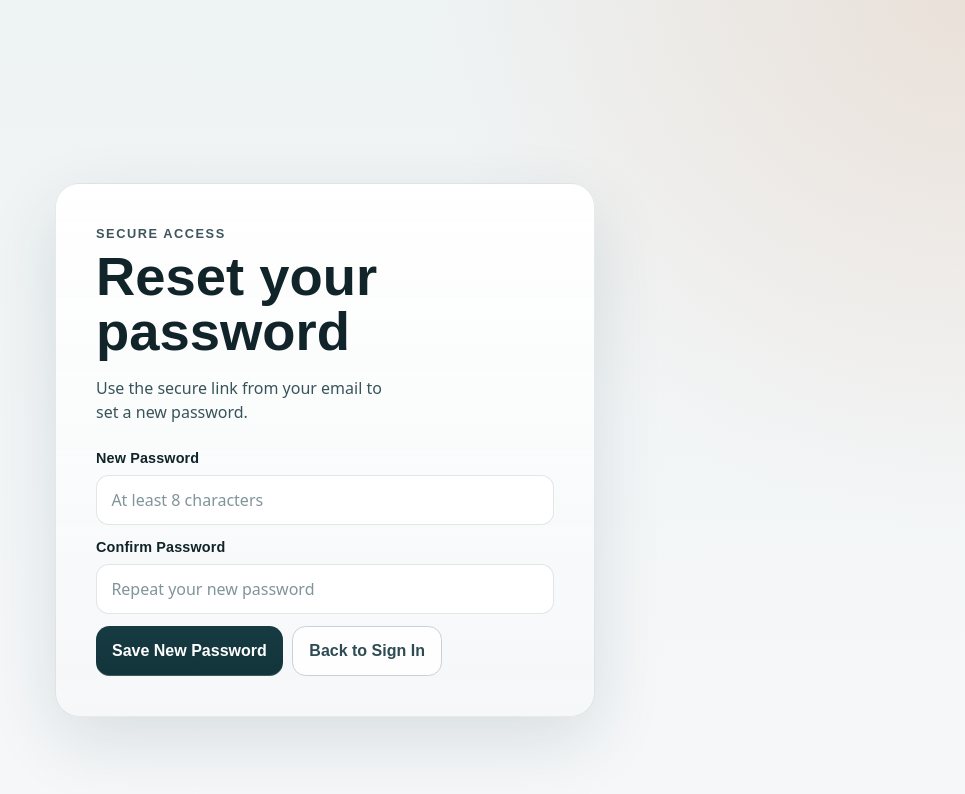
Test: AuthGate › blocks recovery submit when the new passwords do not match
The width and height of the screenshot is (965, 794).
Type "new-password" into the password field labelled "New Password".
click(325, 500); type("new-password")  # box 96,475 -> 554,525
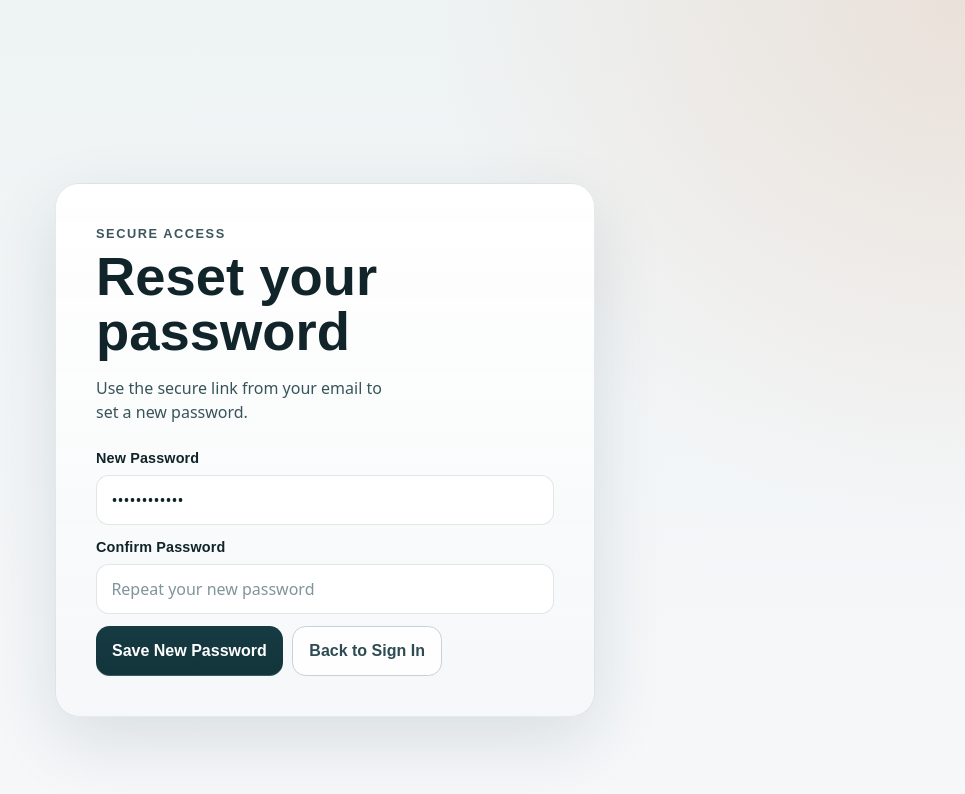
Type "different-password" into the password field labelled "Confirm Password".
click(325, 589); type("different-password")  # box 96,564 -> 554,614
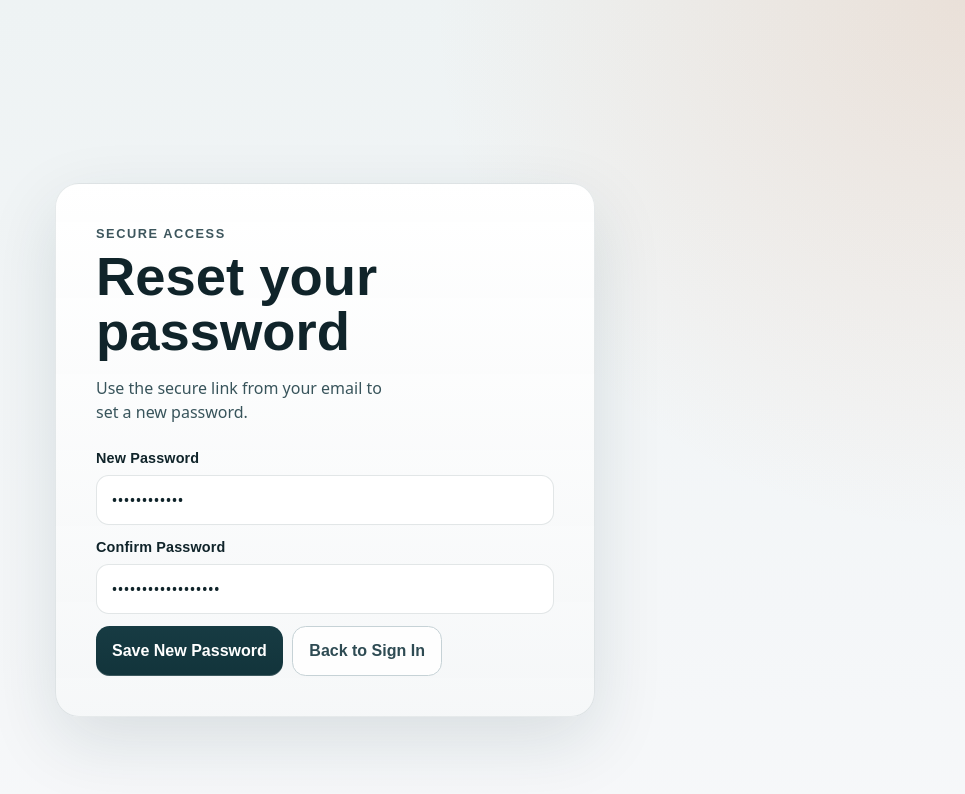
Submit the form "Save New Password", box 96,448 -> 554,676
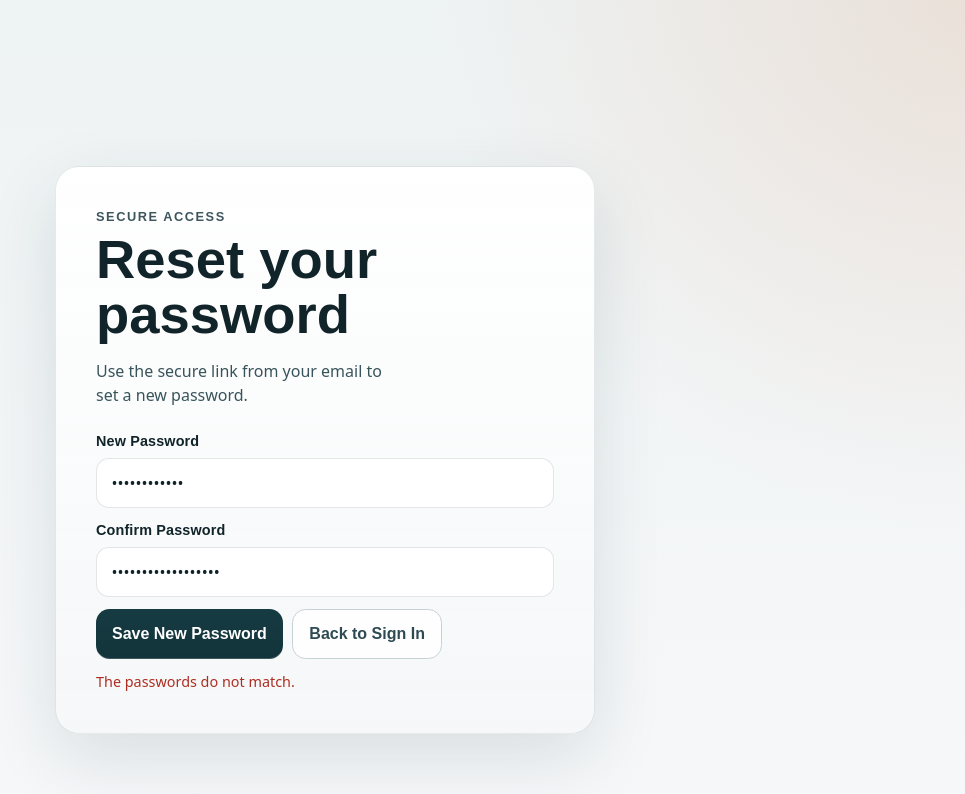
Check: the text "The passwords do not match." is shown, box 96,672 -> 295,691
